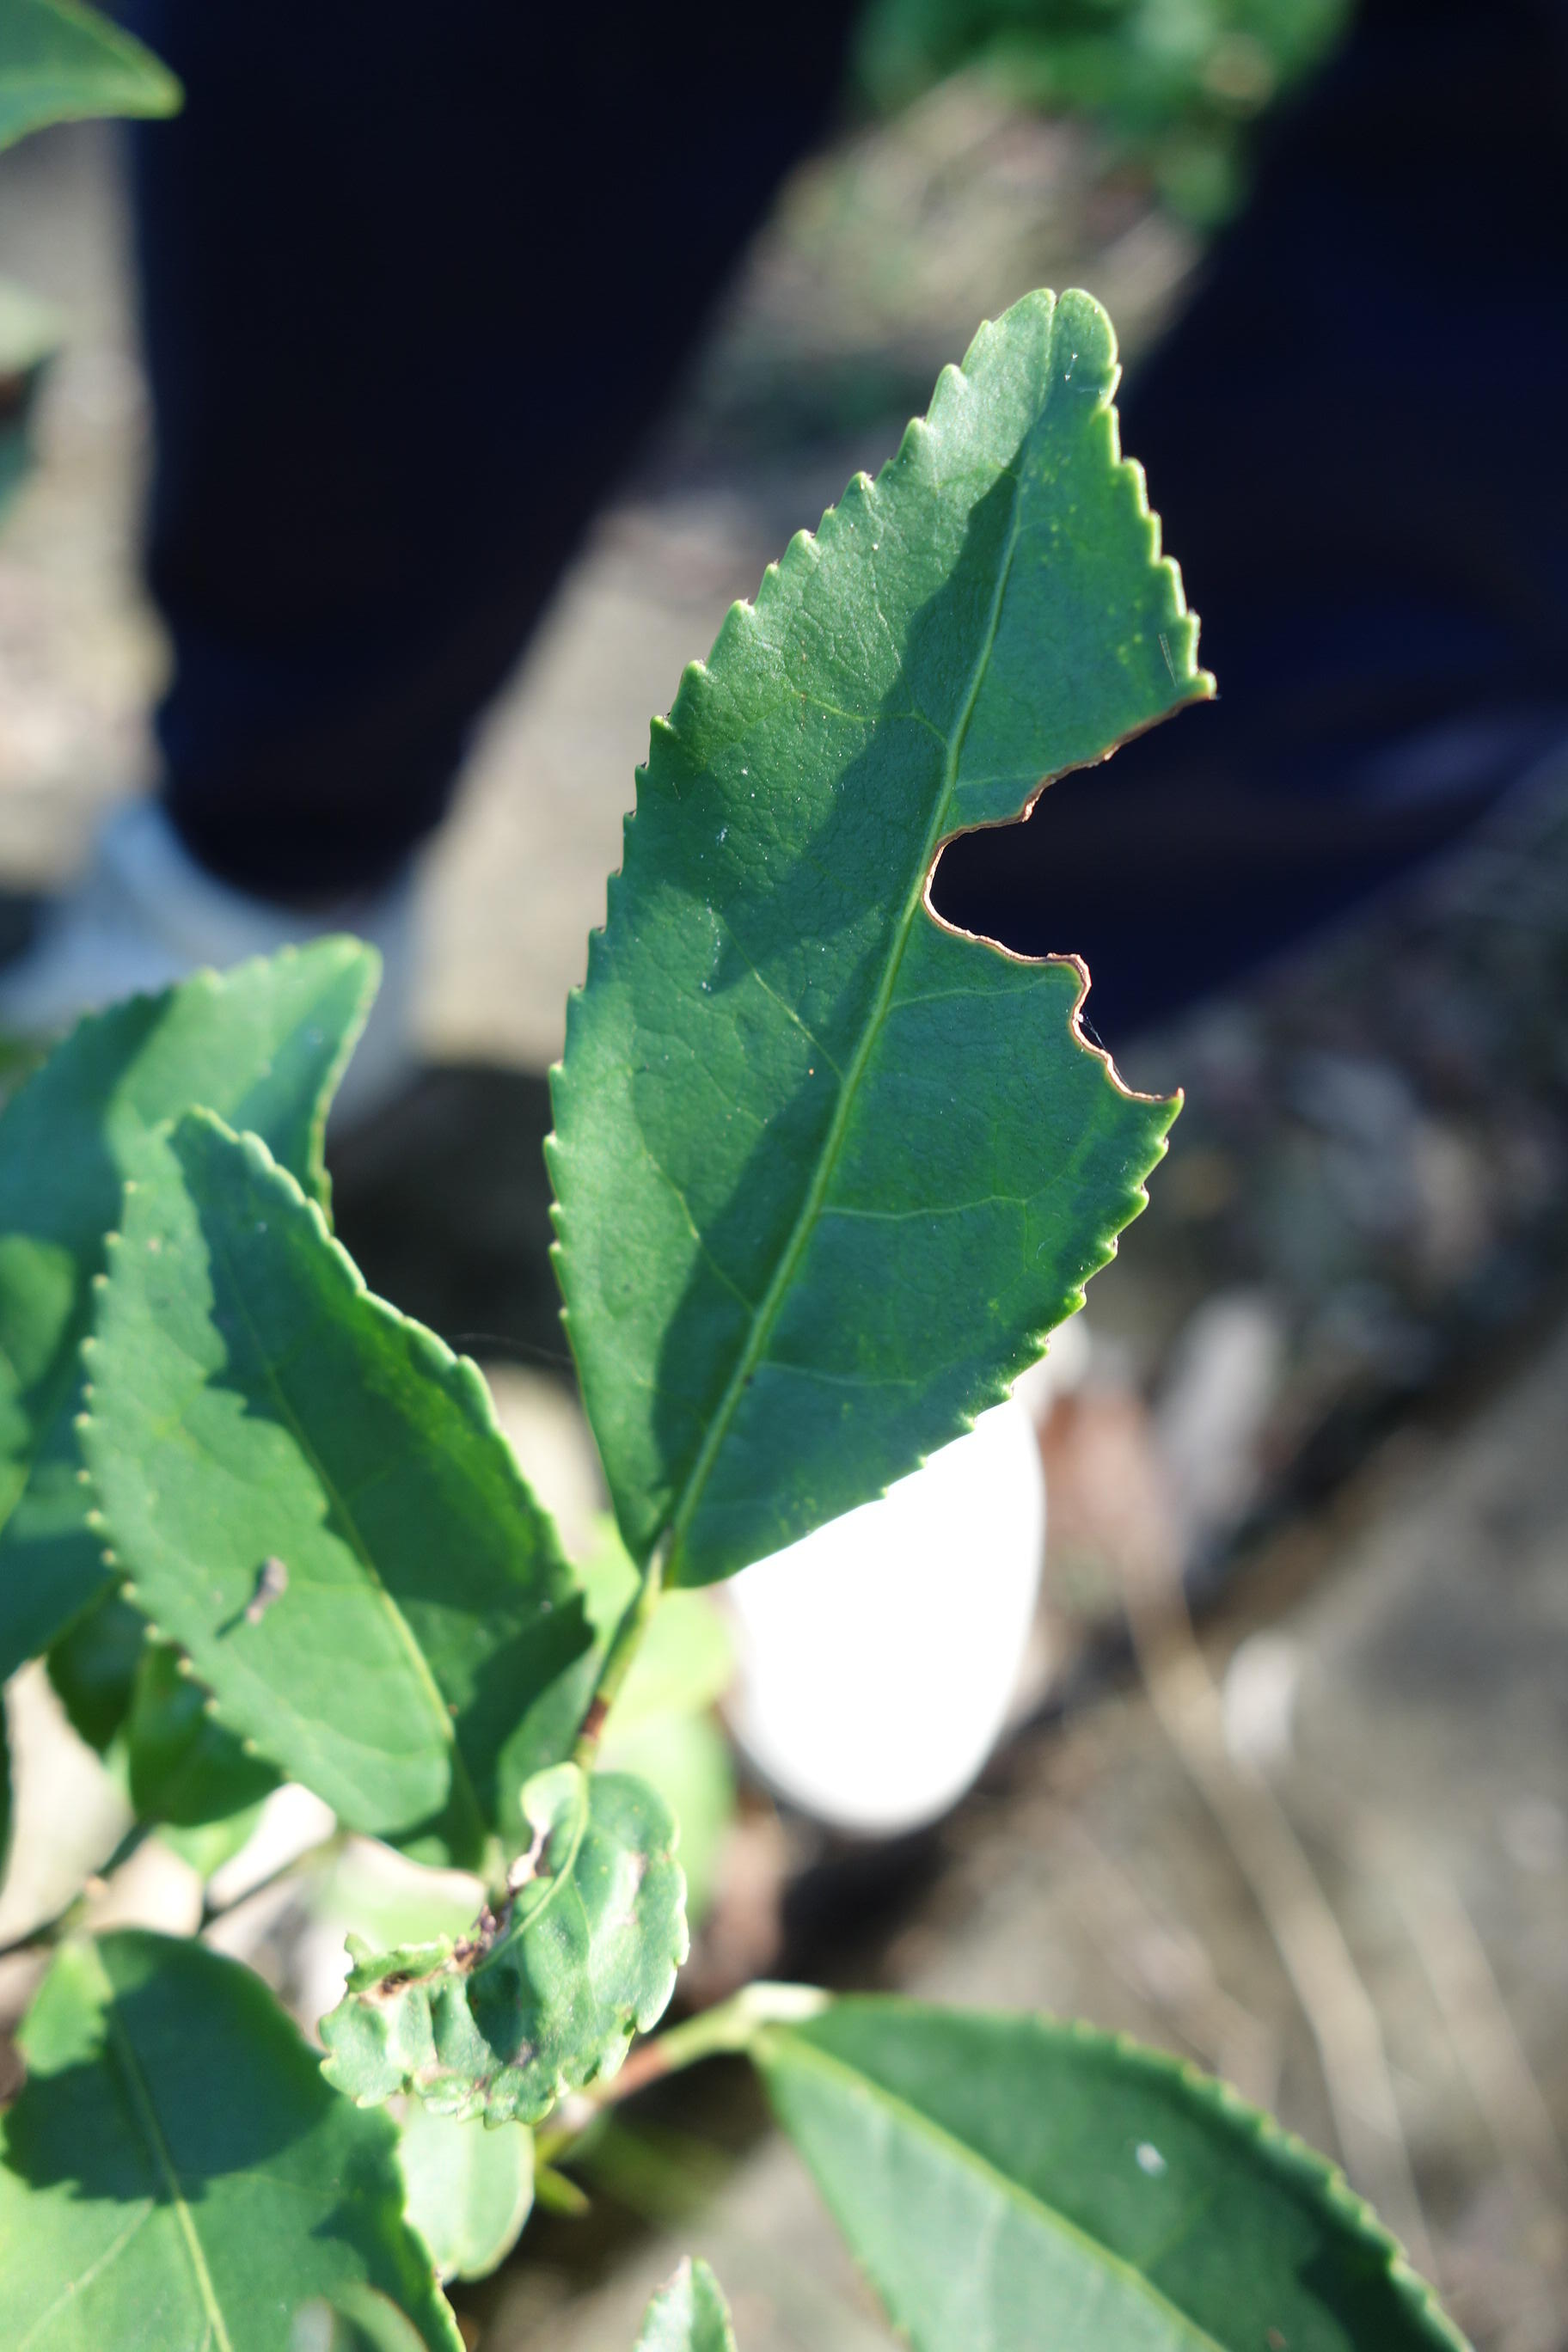chihuo_high: (317, 1760, 686, 2126)
chihuo_low: (534, 292, 1230, 1585)
